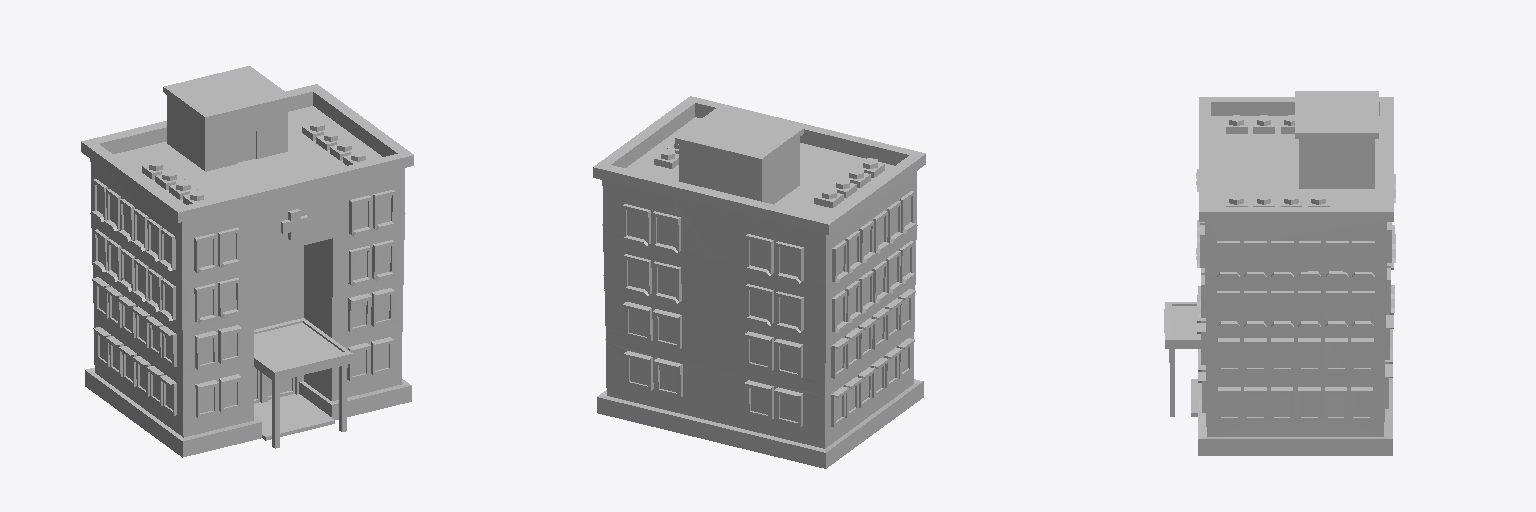
The model's file is hospital.obj.
3 renders of one model, left to right at view 1: azimuth 30°, elevation 25°; view 2: azimuth 150°, elevation 25°; view 3: azimuth 270°, elevation 25°, orthographic.
Parts seen in each view (by area): view 1: Hospital_Cube.023; view 2: Hospital_Cube.023; view 3: Hospital_Cube.023.
Boxes of the visible parts, <box> form: Hospital_Cube.023: <box>81,66,413,457</box>; Hospital_Cube.023: <box>593,96,925,468</box>; Hospital_Cube.023: <box>1164,91,1395,455</box>.
Size of the model in its own units: 4.1 by 4.75 by 3.46.